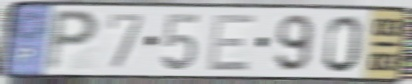0: (322, 13, 366, 74)
5: (160, 12, 202, 73)
7: (105, 11, 145, 71)
9: (274, 13, 316, 73)
E: (204, 12, 258, 73)
P: (44, 7, 102, 73)
